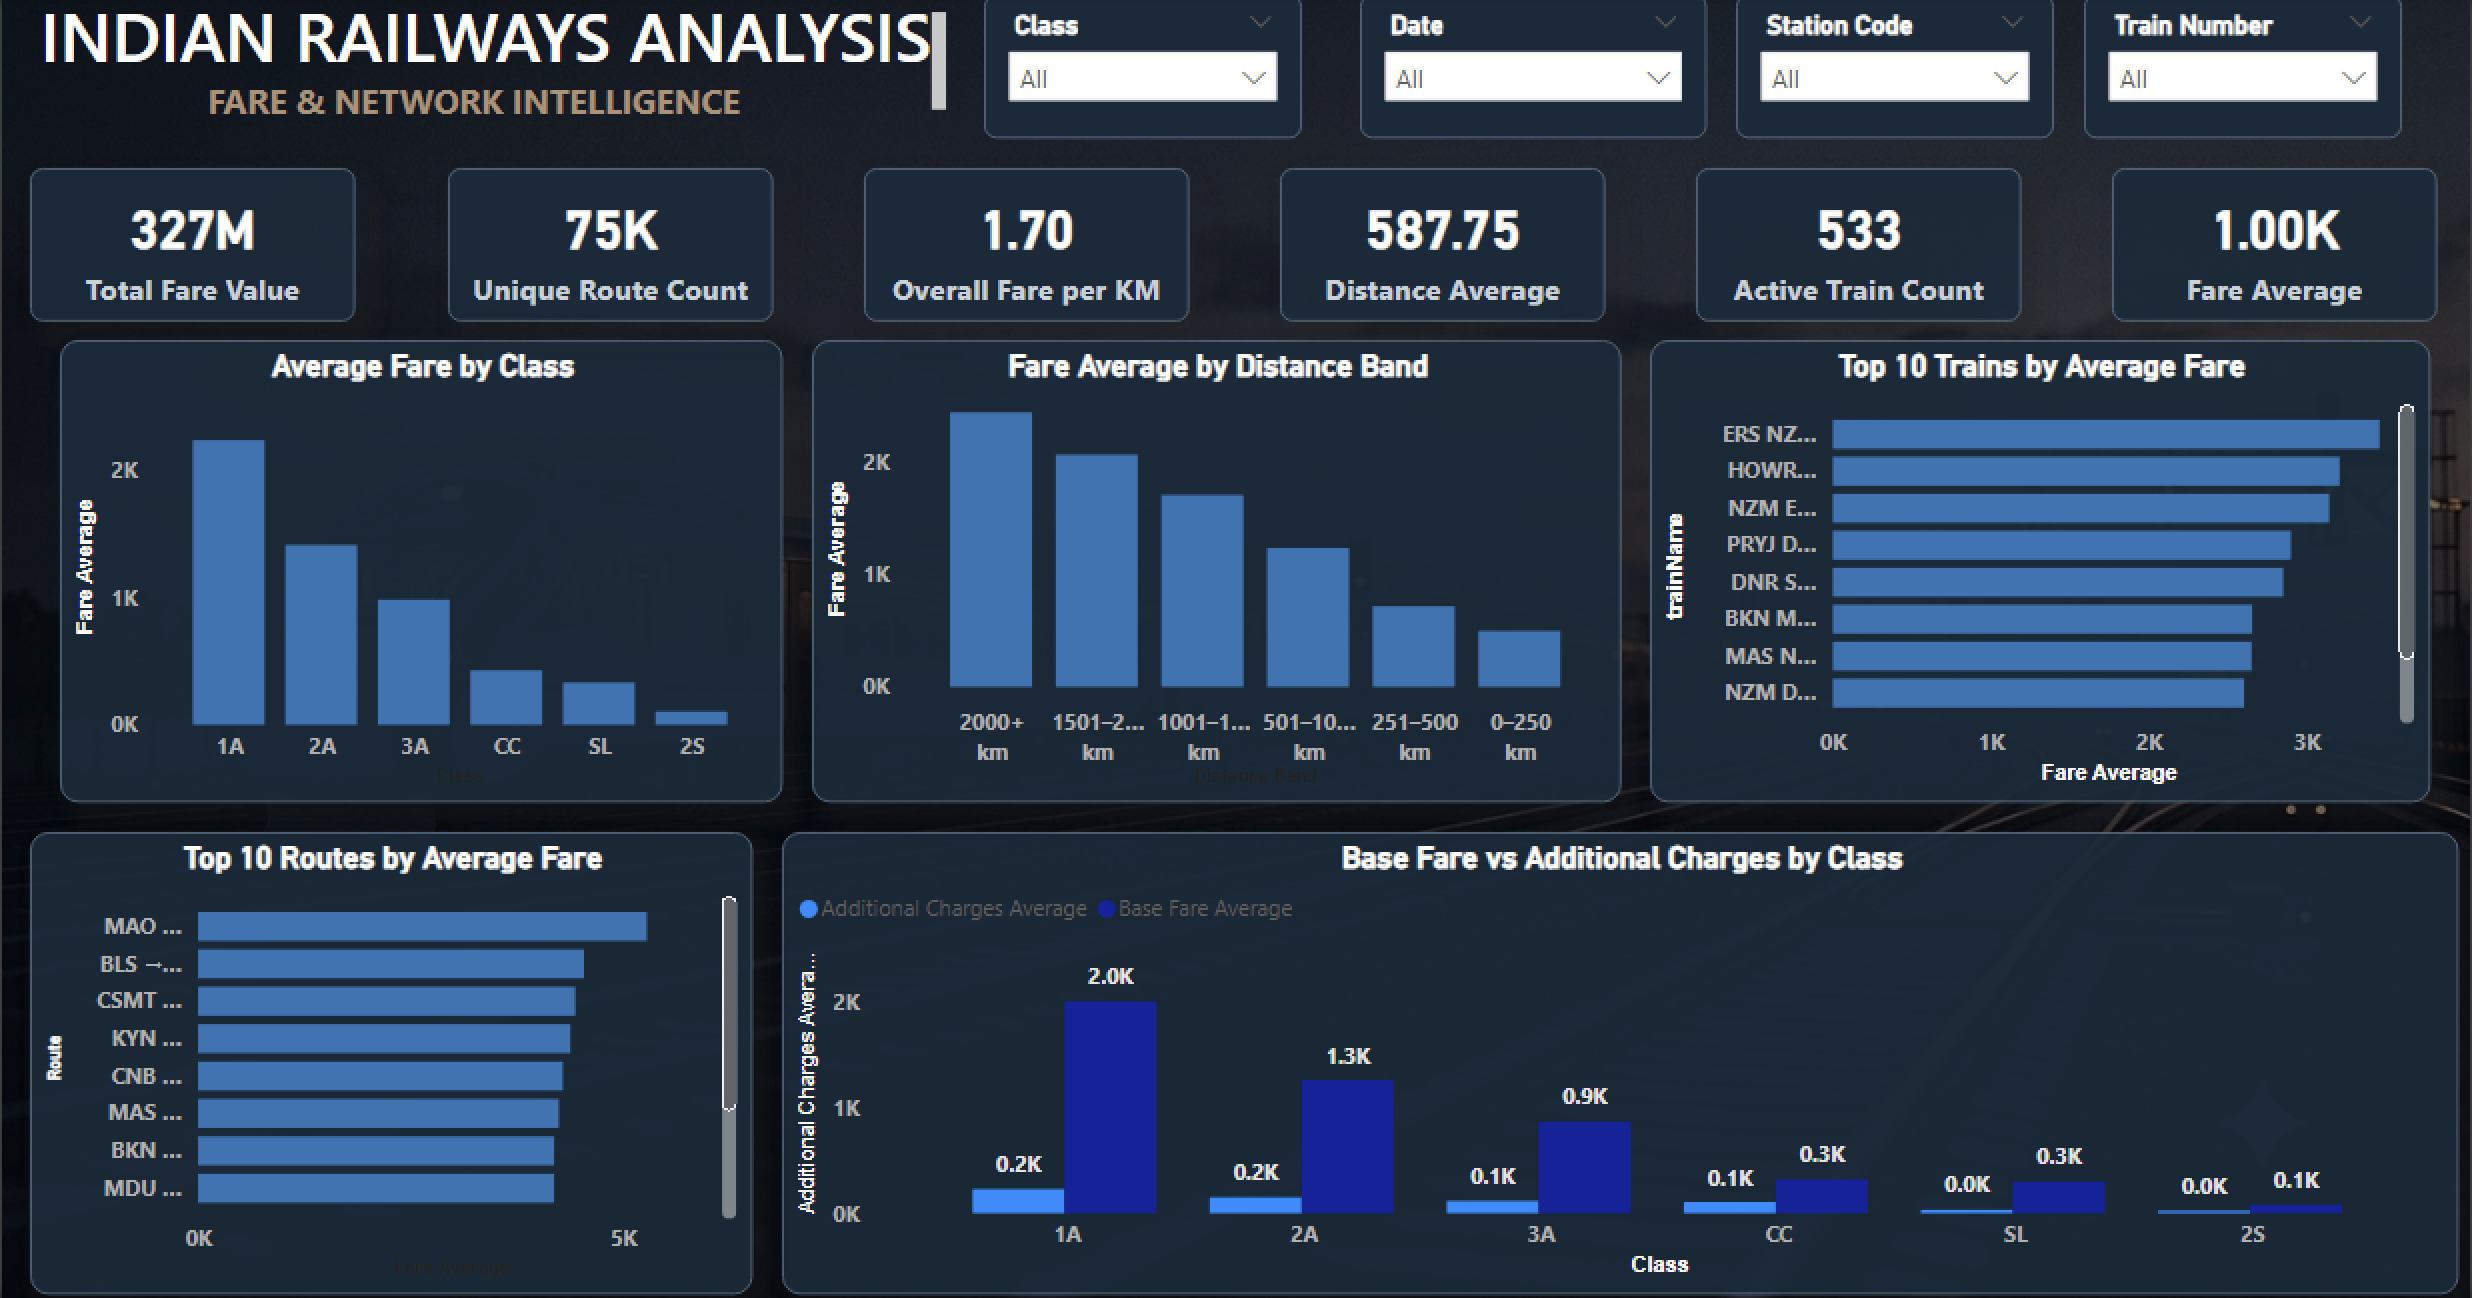

What the dashboard file says about the page in this screenshot:
{"tool":"powerbi","page":{"name":"🚆Executive Overview","canvas":[1365,725],"ordinal":0},"visuals":[{"type":"card","fields":{"Values":["FactFare.Total Fare Value"]},"box":[16,96,180,85],"z":0},{"type":"clusteredColumnChart","title":"Average Fare by Class","fields":{"Category":["DimClass.Class"],"Y":["FactFare.Fare Average"]},"box":[32,192,400,256],"z":1000},{"type":"card","fields":{"Values":["FactFare.Fare Average"]},"box":[1168,96,180,85],"z":2000},{"type":"clusteredColumnChart","fields":{"Category":["FactFare.Distance Band"],"Y":["FactFare.Fare Average"]},"box":[448,192,448,256],"z":3000},{"type":"card","fields":{"Values":["FactFare.Active Train Count"]},"box":[937.6,96,180,85],"z":4000},{"type":"clusteredBarChart","title":"Top 10 Trains by Average Fare","fields":{"Y":["FactFare.Fare Average"],"Category":["DimTrain.trainName"]},"box":[912,192,432,256],"z":5000},{"type":"card","fields":{"Values":["FactFare.Unique Route Count"]},"box":[246.4,96,180,85],"z":6000},{"type":"clusteredColumnChart","title":"Base Fare vs Additional Charges by Class","fields":{"Category":["DimClass.Class"],"Y":["FactFare.Additional Charges Average","FactFare.Base Fare Average"]},"box":[432,464,928,256],"z":7000},{"type":"card","fields":{"Values":["FactFare.Distance Average"]},"box":[707.2,96,180,85],"z":8000},{"type":"clusteredBarChart","title":"Top 10 Routes by Average Fare","fields":{"Category":["FactFare.Route"],"Y":["FactFare.Fare Average"]},"box":[16,464,400,256],"z":9000},{"type":"card","fields":{"Values":["FactFare.Overall Fare per KM"]},"box":[476.8,96,180,85],"z":10000},{"type":"textbox","box":[16,0,512,80],"z":11000},{"type":"slicer","fields":{"Values":["DimClass.Class"]},"box":[544,0,176,80],"z":12000},{"type":"slicer","fields":{"Values":["DimDate.Date"]},"box":[752,0,192,80],"z":13000},{"type":"slicer","fields":{"Values":["DimDestinationStation.Station Code"]},"box":[960,0,176,80],"z":14000},{"type":"slicer","fields":{"Values":["FactFare.Train Number"]},"box":[1152,0,176,80],"z":15000}]}

Visuals, with their boxes in screenshot pixels (x1, y1, x2, y2), scaled from the page's 1365x725 canvas onto the 2472x1298 screenshot:
card - FactFare.Total Fare Value: {"x1": 29, "y1": 172, "x2": 355, "y2": 324}
"Average Fare by Class" clusteredColumnChart: {"x1": 58, "y1": 344, "x2": 782, "y2": 802}
card - FactFare.Fare Average: {"x1": 2115, "y1": 172, "x2": 2441, "y2": 324}
clusteredColumnChart - FactFare.Distance Band x FactFare.Fare Average: {"x1": 811, "y1": 344, "x2": 1623, "y2": 802}
card - FactFare.Active Train Count: {"x1": 1698, "y1": 172, "x2": 2024, "y2": 324}
"Top 10 Trains by Average Fare" clusteredBarChart: {"x1": 1652, "y1": 344, "x2": 2434, "y2": 802}
card - FactFare.Unique Route Count: {"x1": 446, "y1": 172, "x2": 772, "y2": 324}
"Base Fare vs Additional Charges by Class" clusteredColumnChart: {"x1": 782, "y1": 831, "x2": 2463, "y2": 1289}
card - FactFare.Distance Average: {"x1": 1281, "y1": 172, "x2": 1607, "y2": 324}
"Top 10 Routes by Average Fare" clusteredBarChart: {"x1": 29, "y1": 831, "x2": 753, "y2": 1289}
card - FactFare.Overall Fare per KM: {"x1": 863, "y1": 172, "x2": 1189, "y2": 324}
textbox: {"x1": 29, "y1": 0, "x2": 956, "y2": 143}
slicer - DimClass.Class: {"x1": 985, "y1": 0, "x2": 1304, "y2": 143}
slicer - DimDate.Date: {"x1": 1362, "y1": 0, "x2": 1710, "y2": 143}
slicer - DimDestinationStation.Station Code: {"x1": 1739, "y1": 0, "x2": 2057, "y2": 143}
slicer - FactFare.Train Number: {"x1": 2086, "y1": 0, "x2": 2405, "y2": 143}
